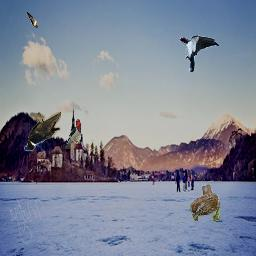Crow: (24, 112, 61, 152)
Sparrow: (189, 184, 222, 221)
Swallow: (179, 35, 219, 72), (26, 12, 38, 28)
Woodpecker: (64, 117, 82, 149)
